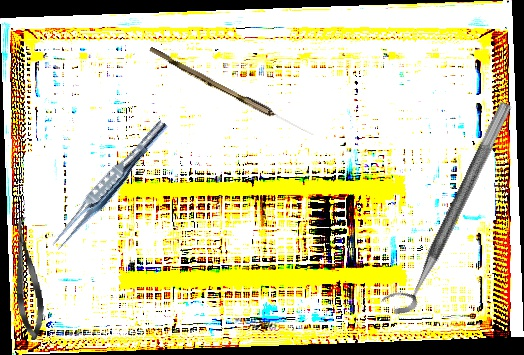Fixation Ring: (378, 91, 514, 322)
Micro Scissor: (7, 215, 48, 342)
Surgical Spoon: (147, 46, 316, 139)
Tissue Forceps: (48, 114, 171, 256)
